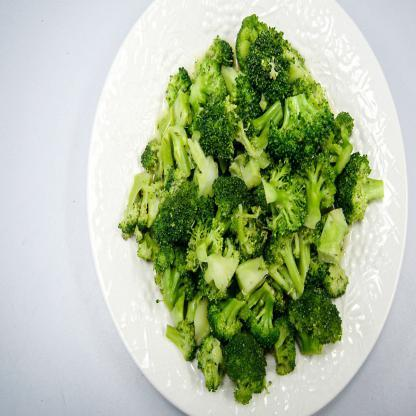broccoli: (119, 14, 385, 405)
